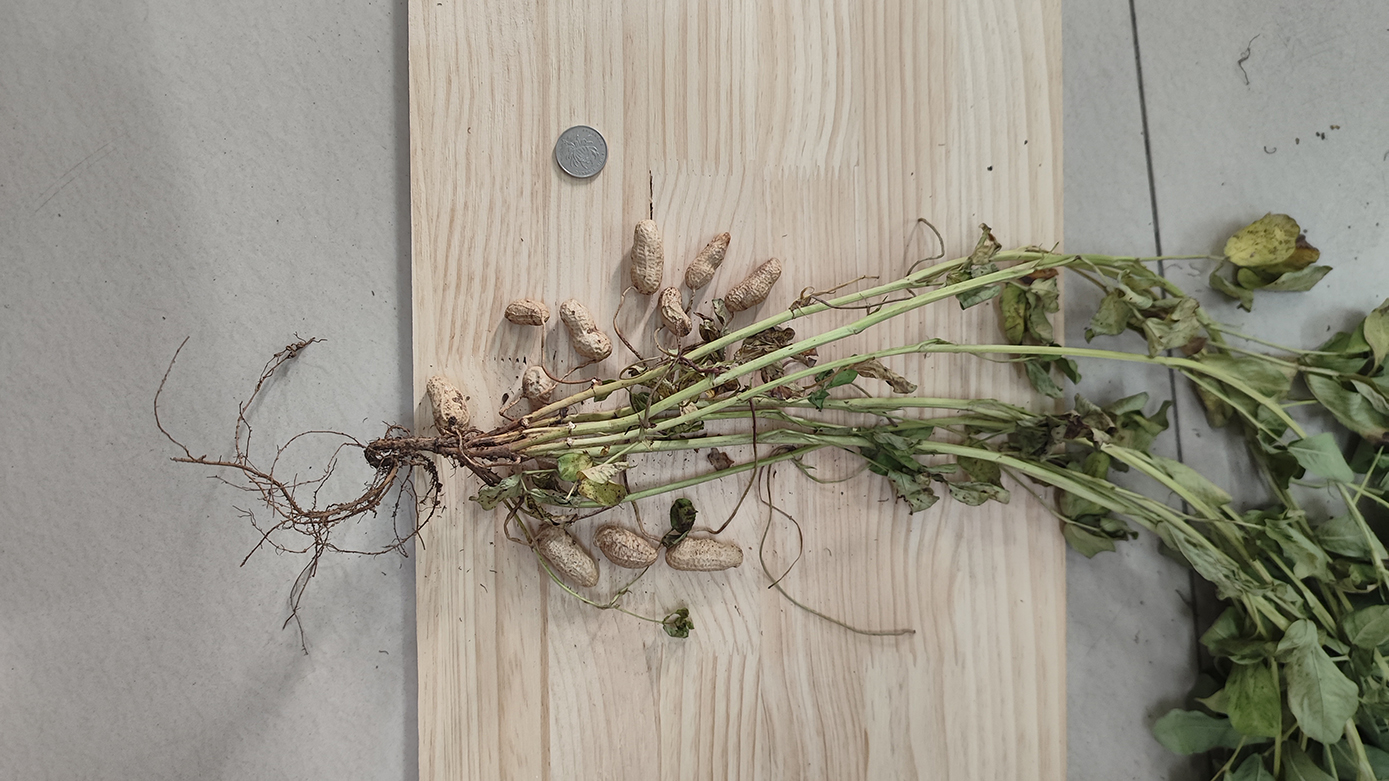h: (535, 524, 600, 587), (723, 256, 783, 314), (559, 298, 614, 359), (685, 230, 731, 289), (595, 525, 658, 568), (665, 539, 745, 571), (630, 219, 664, 292), (426, 377, 470, 431), (658, 287, 690, 337), (521, 365, 553, 403), (505, 300, 550, 326)
